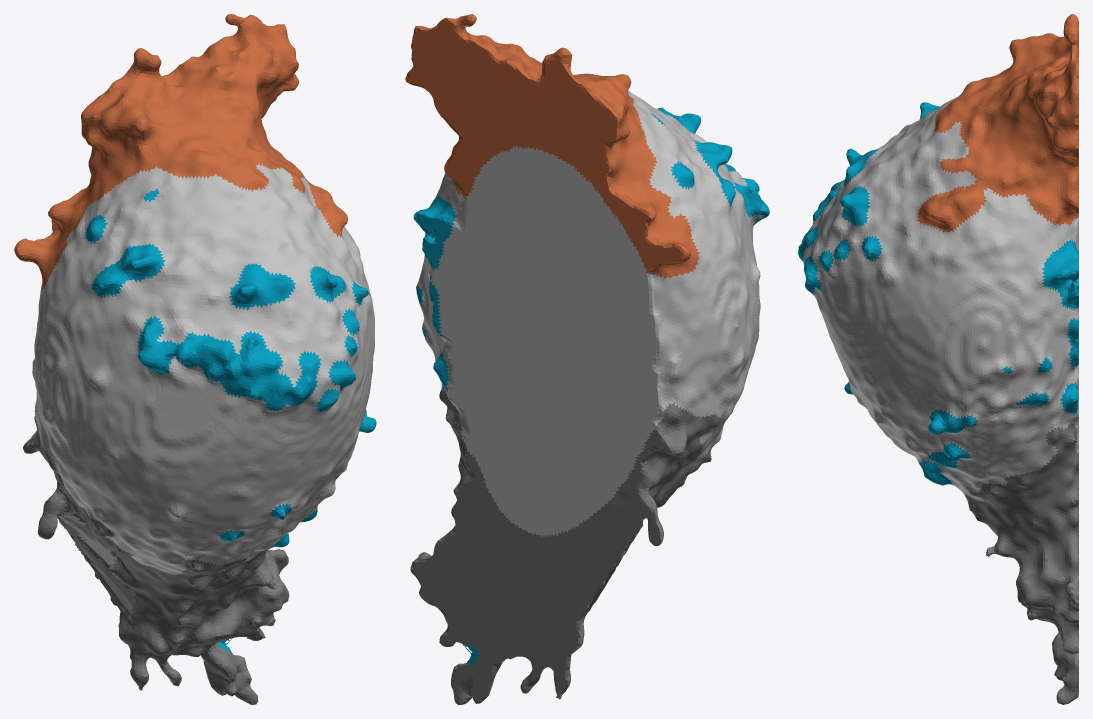
3 renders of one model, left to right at view 1: azimuth 30°, elevation 25°; view 2: azimuth 150°, elevation 25°; view 3: azimuth 270°, elevation 25°, orthographic. The views are drawn at different scales.
Bounding box in the file's own units: 83.77 × 179 × 69.78.
